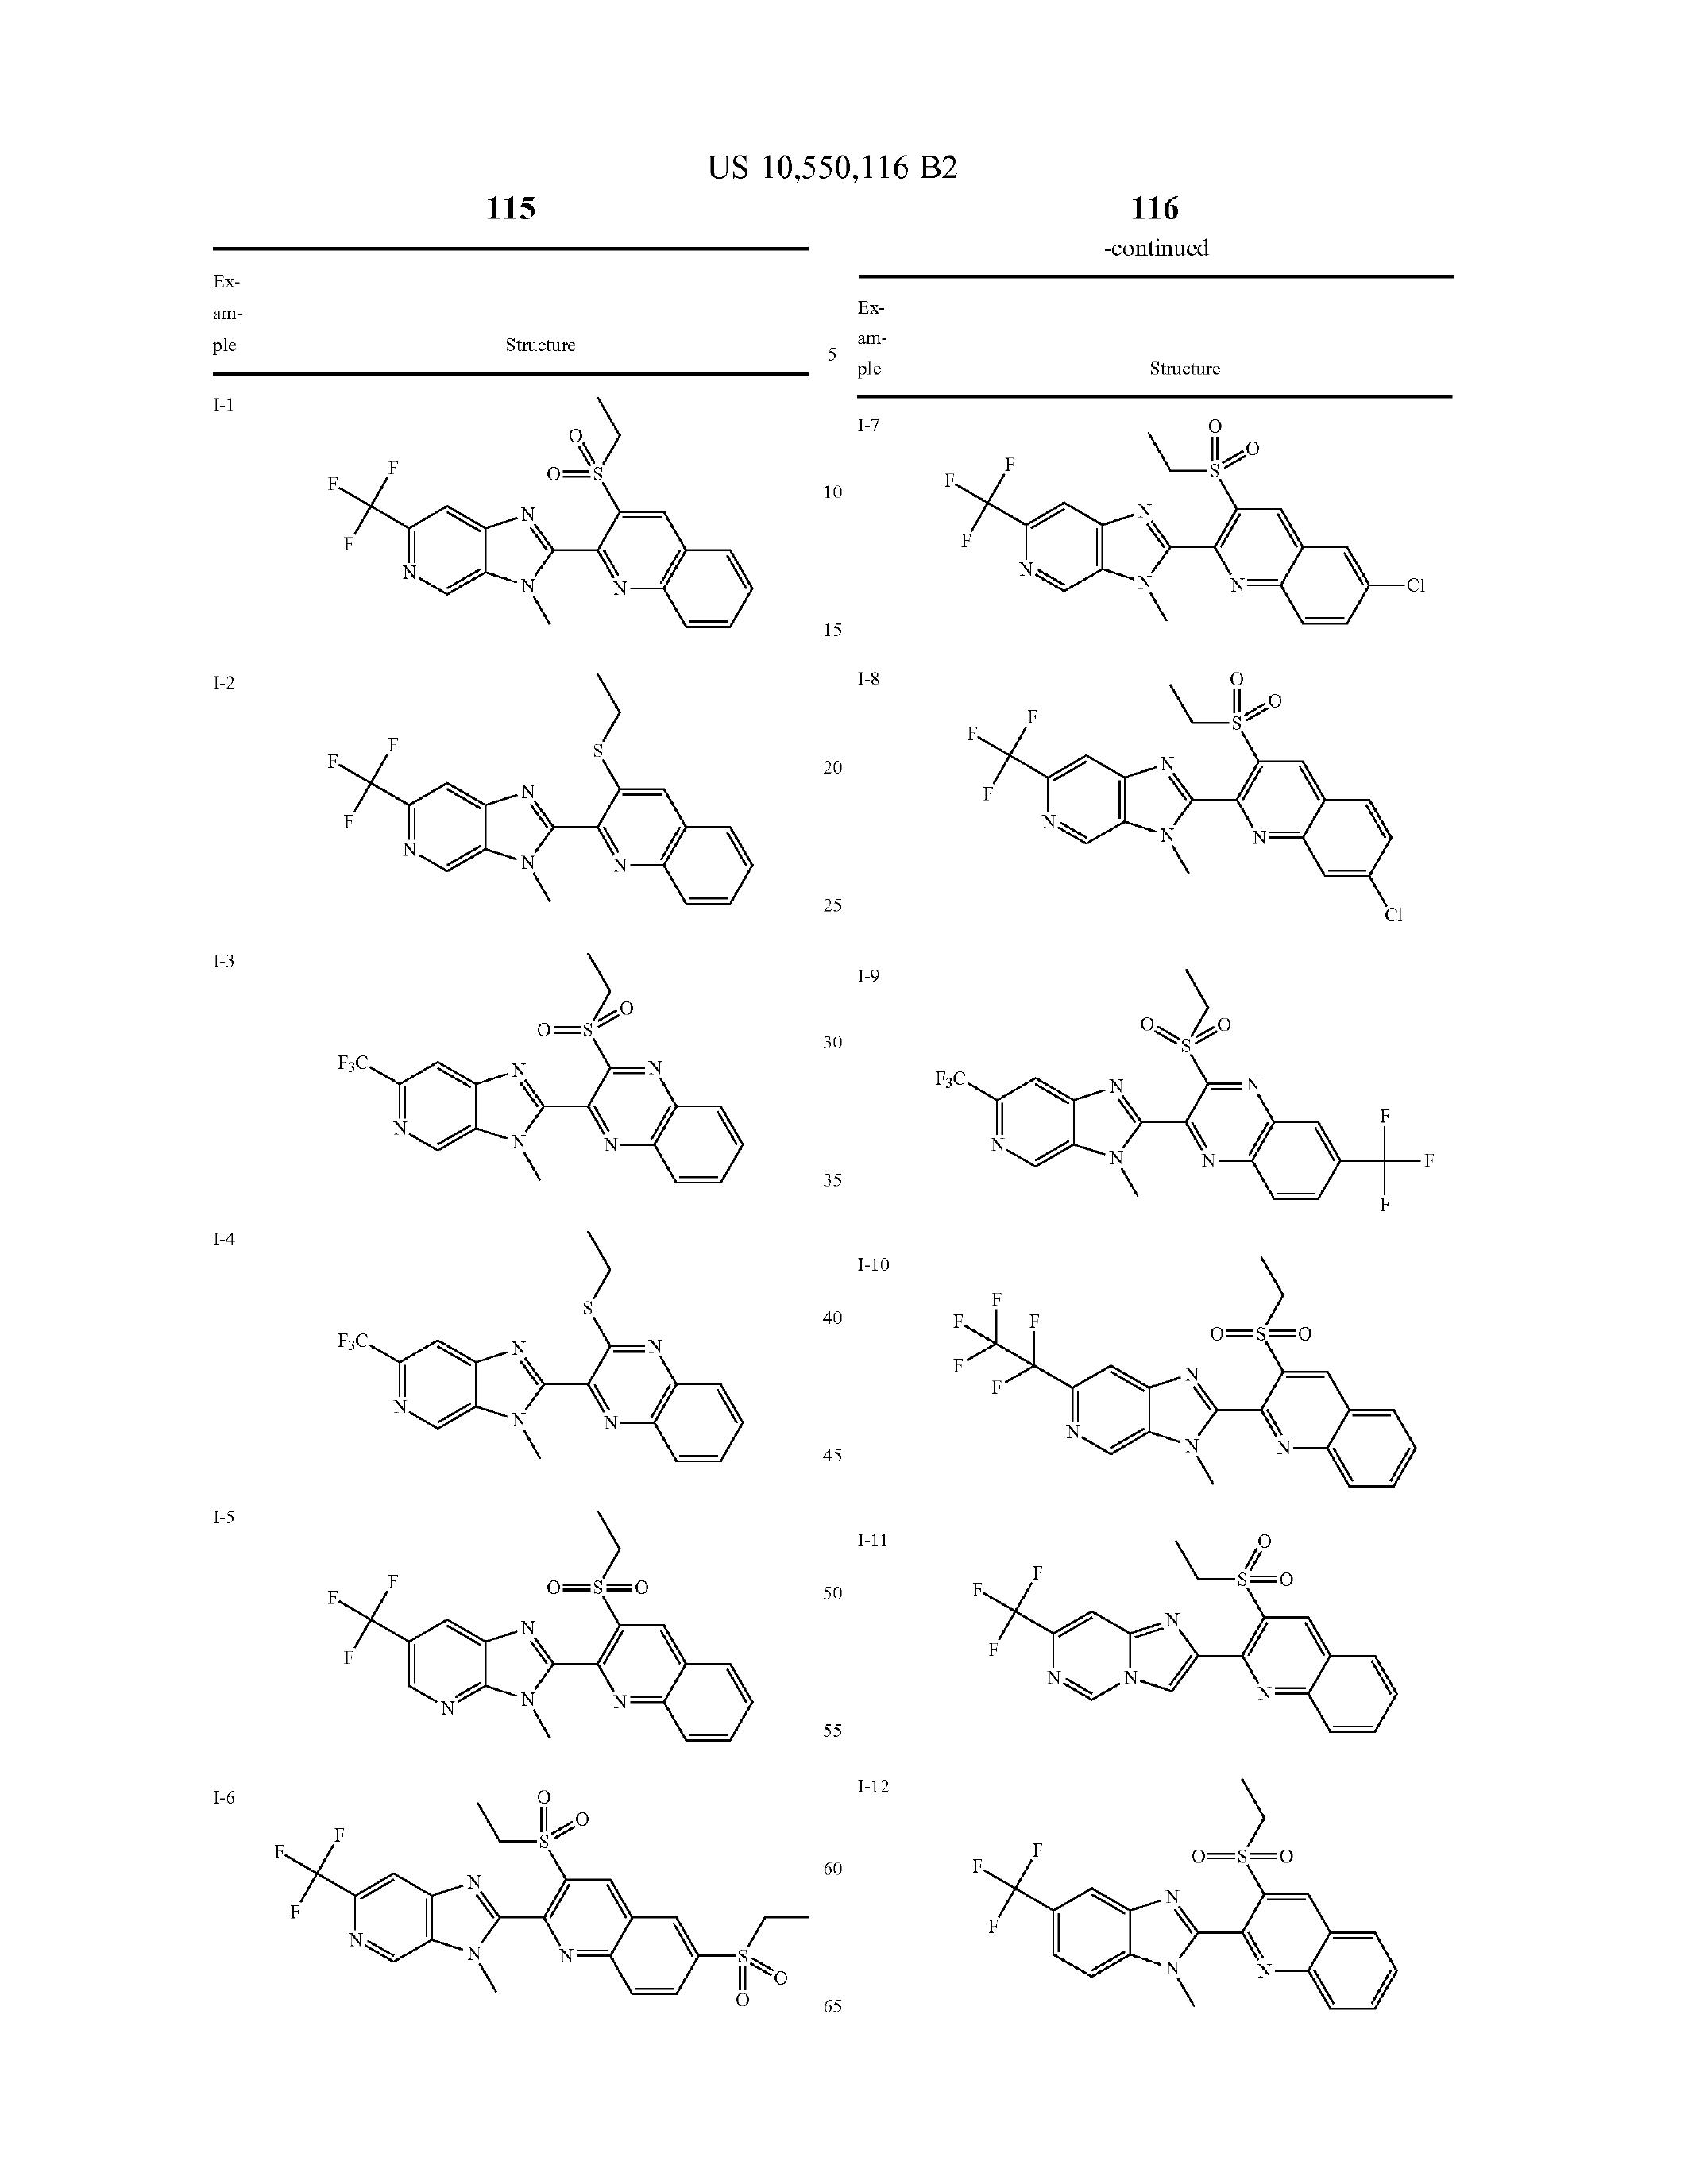relevant-structures: (952, 1787, 1530, 2131), (271, 1798, 809, 2085), (918, 959, 1473, 1230), (942, 1519, 1477, 1783), (316, 386, 773, 679), (950, 1260, 1463, 1509), (920, 674, 1452, 911), (305, 1239, 778, 1503), (910, 418, 1436, 651), (314, 1514, 766, 1776), (305, 970, 773, 1221), (332, 698, 761, 922)
